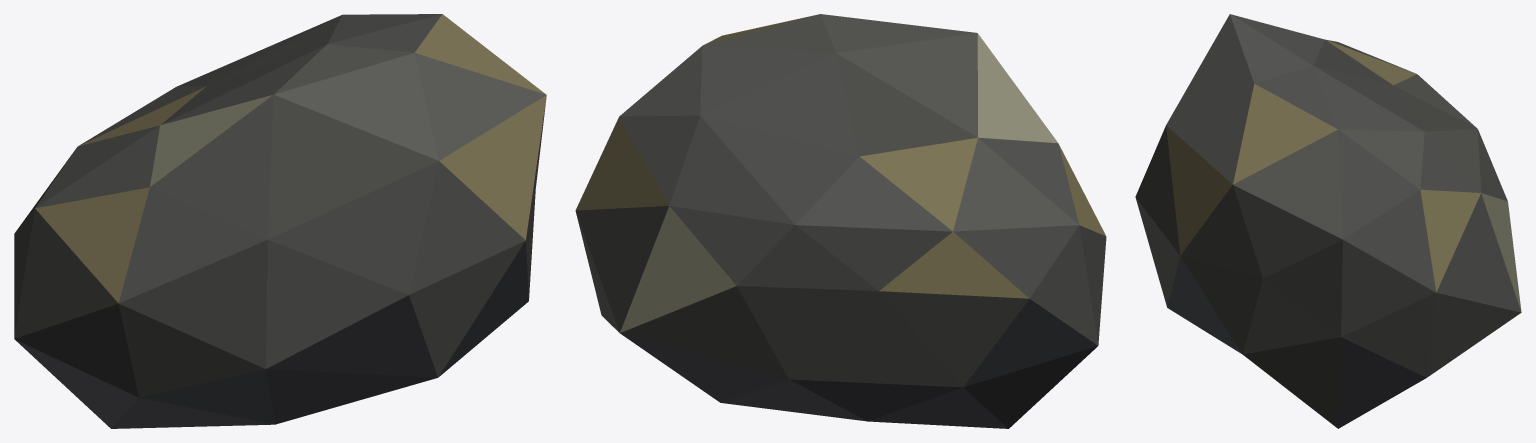
File: stone.glb
3 renders of one model, left to right at view 1: azimuth 30°, elevation 25°; view 2: azimuth 150°, elevation 25°; view 3: azimuth 270°, elevation 25°, orthographic. The views are drawn at different scales.
Parts seen in each view (by area): view 1: stone; view 2: stone; view 3: stone.
Part boxes in pixels (x1,y1,x2,y2): stone: (14,14,546,428); stone: (575,14,1106,428); stone: (1135,14,1521,428).
Bounding box in the file's own units: 0.0914 × 0.0656 × 0.0713.
